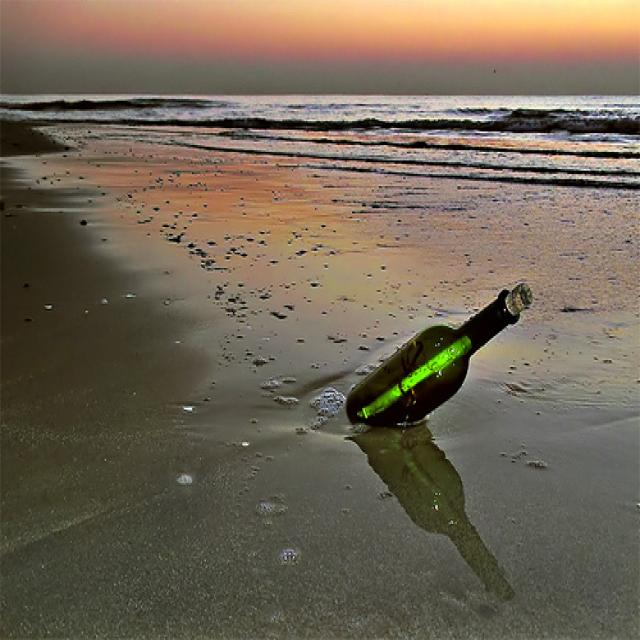bottle: (347, 279, 535, 428)
